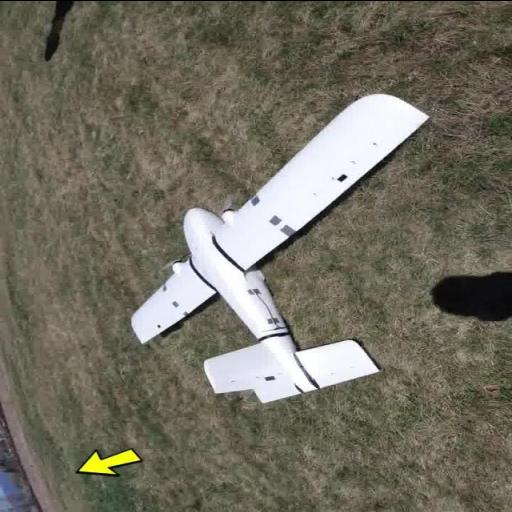uav: (109, 92, 441, 408)
